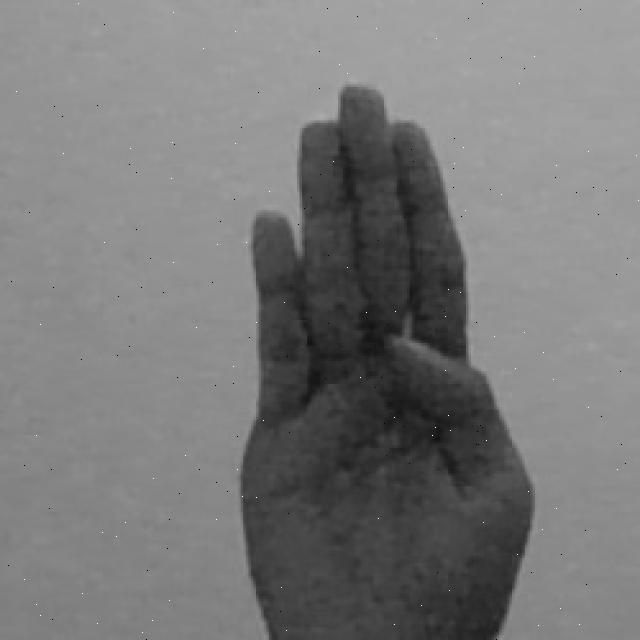B: (236, 79, 535, 640)
